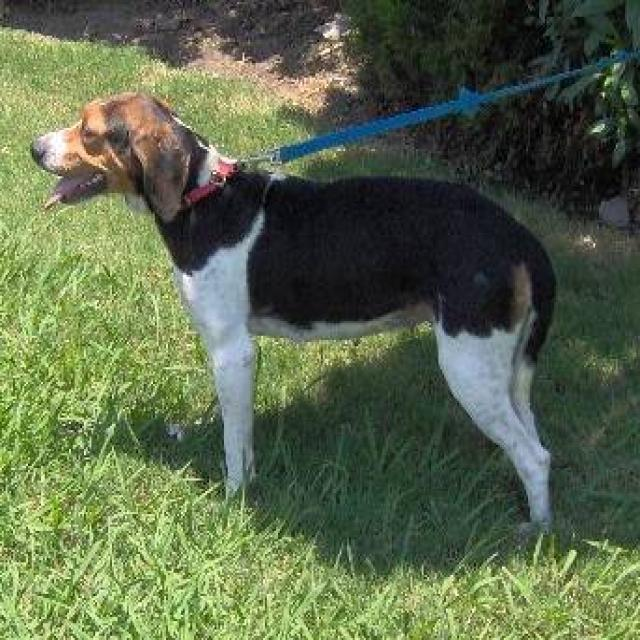dog: (28, 89, 558, 542)
